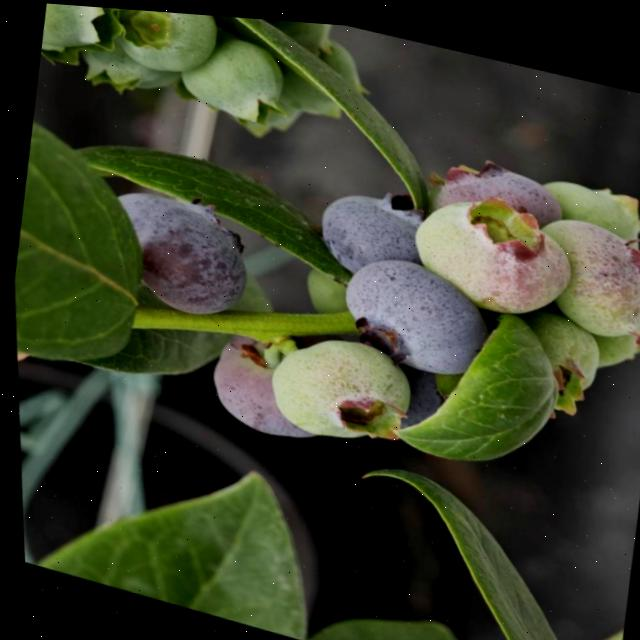RipeBlueBerry: (319, 225, 510, 403)
UnripeBlueBerry: (389, 157, 596, 342), (248, 306, 430, 468)
